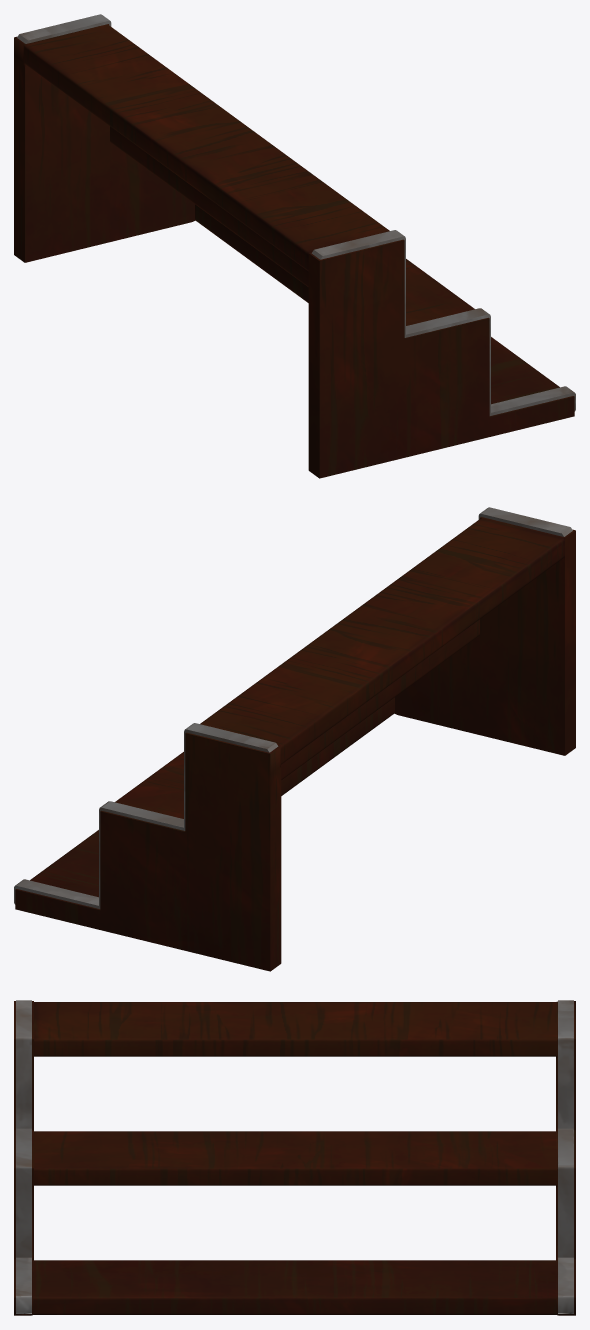
The model's file is House_BottleStand_v01.fbx.
3 renders of one model, top to bottom at view 1: azimuth 30°, elevation 25°; view 2: azimuth 150°, elevation 25°; view 3: azimuth 270°, elevation 25°, orthographic. The views are drawn at different scales.
Parts seen in each view (by area): view 1: Bottle_Stand; view 2: Bottle_Stand; view 3: Bottle_Stand.
Boxes of the visible parts, x1,y1,x2,y2 form: Bottle_Stand: (14,14,575,478); Bottle_Stand: (14,507,575,971); Bottle_Stand: (14,1000,575,1315).
Size of the model in its own units: 27.25 by 56 by 22.31.
2 materials, 2 textured.
